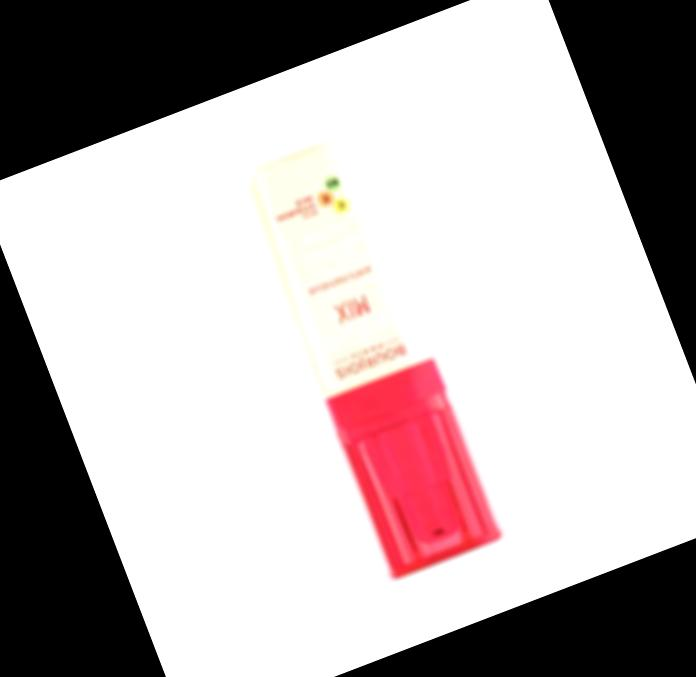cosmetic: (220, 101, 509, 581)
